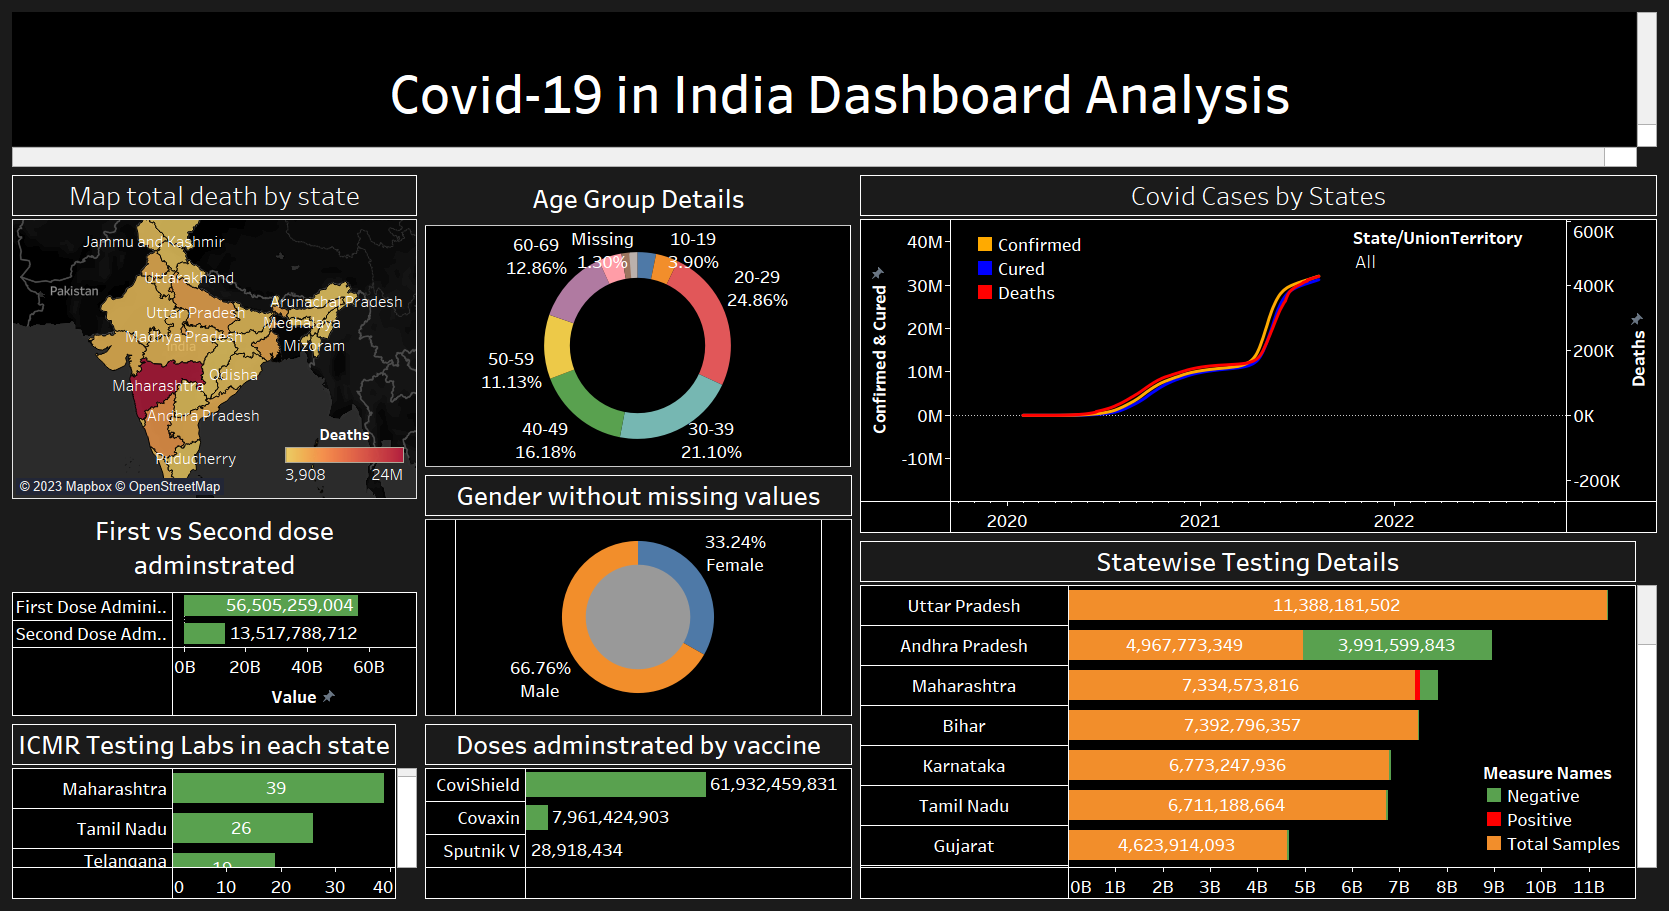

This screenshot's page, from the dashboard's own definition file:
{"tool":"tableau","page":{"name":"Dashboard 1","canvas":[1000,1000],"units":"permille","ordinal":0},"visuals":[{"type":"worksheet","title":"Title","mark":"Automatic","box":[4.8,8.8,990.3,178.9]},{"type":"worksheet","title":"Map total death by state","mark":"Automatic","box":[4.8,187.7,247.6,364.4]},{"type":"worksheet","title":"Age Group Details","mark":"Pie","rows":["Calculation_729301681113387012","Calculation_729301681113497606"],"box":[252.4,187.7,260.5,329.3]},{"type":"worksheet","title":"Covid Cases by States","mark":"Automatic","rows":["Deaths"],"cols":["Date"],"box":[512.9,187.7,482.3,401.8]},{"type":"legend","title":"Covid Cases by States","param":"[federated.0g44b9m1ktbgrp1e5os730b4ovic].[:Measure Names]","box":[583,254.7,83.9,79]},{"type":"legend","title":"Map total death by state","param":"[federated.0g44b9m1ktbgrp1e5os730b4ovic].[sum:Deaths:qk]","box":[168.4,461,76.1,77.9]},{"type":"worksheet","title":"Gender without missing values","mark":"Pie","rows":["Calculation_729301681117364232","Calculation_729301681117376522"],"box":[252.4,517,260.5,273.3]},{"type":"worksheet","title":"First vs Second dose adminstrated","mark":"Automatic","box":[4.8,552.1,247.6,238.2]},{"type":"worksheet","title":"Statewise Testing Details","mark":"Automatic","rows":["State"],"box":[512.9,589.5,482.3,401.8]},{"type":"worksheet","title":"ICMR Testing Labs in each state","mark":"Automatic","rows":["state"],"cols":["lab"],"box":[4.8,790.4,247.6,200.9]},{"type":"worksheet","title":"Doses adminstrated by vaccine","mark":"Automatic","box":[252.4,790.4,260.5,200.9]},{"type":"legend","title":"Statewise Testing Details","param":"[federated.01f5ato0naa62e11ljtxq0orvkwd].[:Measure Names]","box":[888,833.1,85.7,105.4]}]}

Visuals, with their boxes on the dashboard's canvas, which has no fixed pixel size, in thousandths of its width and height (x1, y1, x2, y2). These are canvas units, not pixel positions in the 1669x911 screenshot, which may show the page scaled, cropped or inside an application window:
"Title" worksheet: x1=5, y1=9, x2=995, y2=188
"Map total death by state" worksheet: x1=5, y1=188, x2=252, y2=552
"Age Group Details" worksheet (Pie marks): x1=252, y1=188, x2=513, y2=517
"Covid Cases by States" worksheet: x1=513, y1=188, x2=995, y2=590
"Covid Cases by States" legend: x1=583, y1=255, x2=667, y2=334
"Map total death by state" legend: x1=168, y1=461, x2=244, y2=539
"Gender without missing values" worksheet (Pie marks): x1=252, y1=517, x2=513, y2=790
"First vs Second dose adminstrated" worksheet: x1=5, y1=552, x2=252, y2=790
"Statewise Testing Details" worksheet: x1=513, y1=590, x2=995, y2=991
"ICMR Testing Labs in each state" worksheet: x1=5, y1=790, x2=252, y2=991
"Doses adminstrated by vaccine" worksheet: x1=252, y1=790, x2=513, y2=991
"Statewise Testing Details" legend: x1=888, y1=833, x2=974, y2=938
